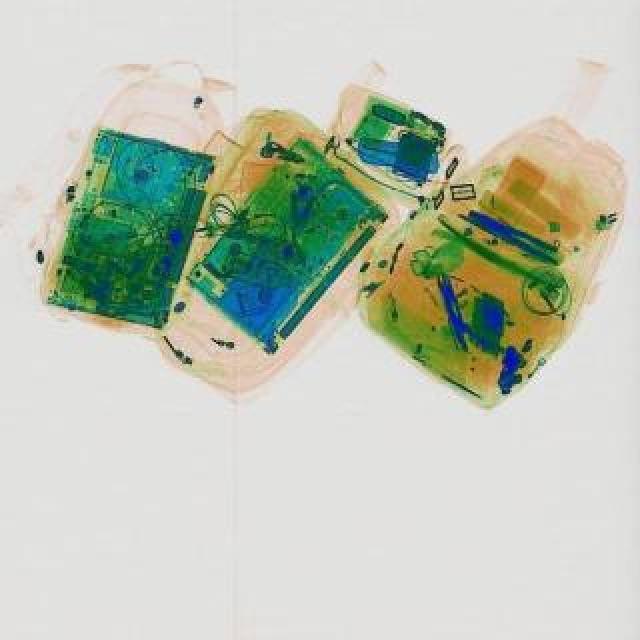wrench: (466, 204, 568, 268)
